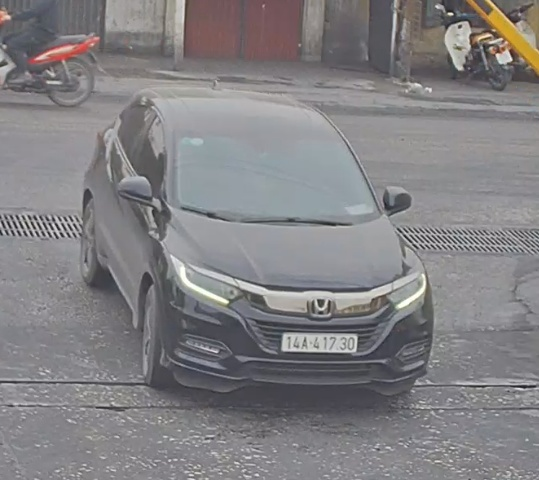vehicle plate: (274, 326, 365, 355)
